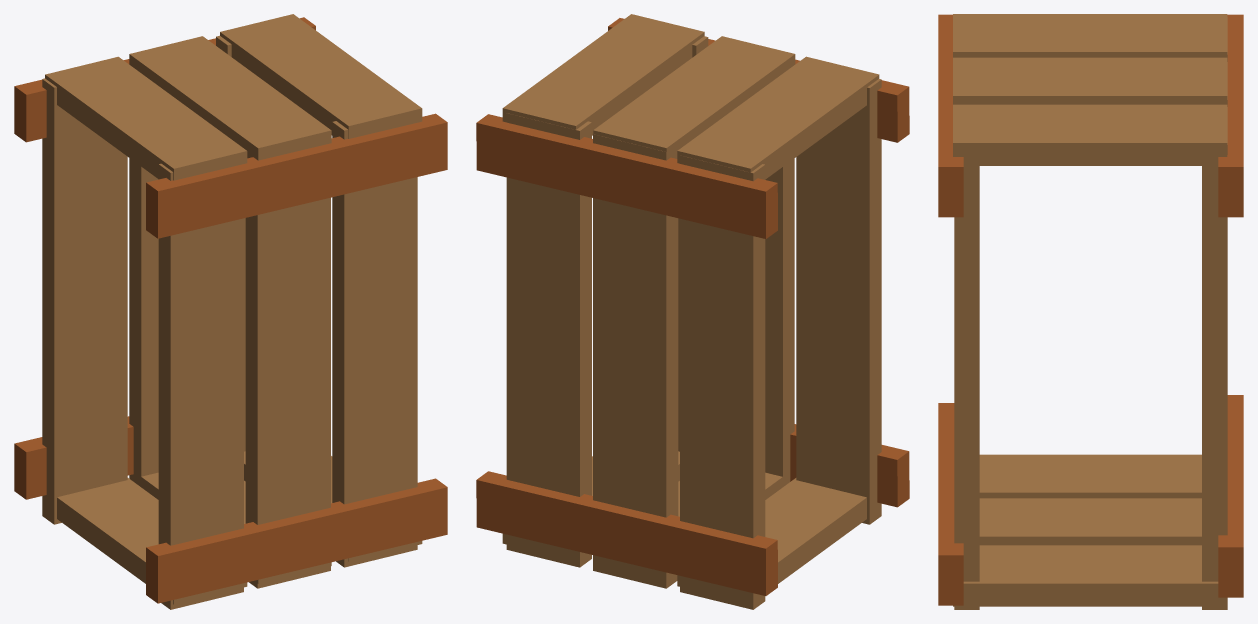
The model's file is Crate_01.fbx.
The picture shows the model from 3 angles, left to right: view 1: azimuth 30°, elevation 25°; view 2: azimuth 150°, elevation 25°; view 3: azimuth 270°, elevation 25°; orthographic projection. The views are drawn at different scales.
Visible parts, largest first — view 1: pCube15, pCube7, pCube5, pCube6, pCube9, pCube8, pCube12, pCube11, pCube10, pCube13, pCube18, pCube17 (+3 smaller); view 2: pCube5, pCube14, pCube15, pCube13, pCube17, pCube16, pCube12, pCube11, pCube10, pCube6, pCube18, pCube9 (+3 smaller); view 3: pCube11, pCube19, pCube10, pCube12, pCube20, pCube7, pCube14, pCube18, pCube17, pCube9, pCube16, pCube8.
Part boxes in pixels (left/top/right/bottom): pCube15: left=42, top=78, right=127, bottom=524; pCube7: left=332, top=121, right=417, bottom=567; pCube5: left=158, top=163, right=243, bottom=609; pCube6: left=245, top=144, right=330, bottom=588; pCube9: left=146, top=478, right=447, bottom=603; pCube8: left=146, top=113, right=447, bottom=238; pCube12: left=45, top=56, right=247, bottom=180; pCube11: left=220, top=14, right=422, bottom=138; pCube10: left=129, top=36, right=331, bottom=160; pCube13: left=129, top=158, right=158, bottom=478; pCube18: left=57, top=478, right=247, bottom=604; pCube17: left=14, top=416, right=133, bottom=499; pCube5: left=796, top=79, right=881, bottom=524; pCube14: left=506, top=113, right=591, bottom=567; pCube15: left=680, top=155, right=765, bottom=609; pCube13: left=593, top=134, right=678, bottom=588; pCube17: left=476, top=471, right=777, bottom=595; pCube16: left=476, top=114, right=777, bottom=238; pCube12: left=677, top=56, right=879, bottom=179; pCube11: left=502, top=14, right=704, bottom=135; pCube10: left=593, top=36, right=795, bottom=159; pCube6: left=765, top=158, right=794, bottom=476; pCube18: left=677, top=478, right=866, bottom=586; pCube9: left=790, top=424, right=909, bottom=507; pCube11: left=953, top=104, right=1227, bottom=165; pCube19: left=953, top=545, right=1227, bottom=606; pCube10: left=953, top=57, right=1227, bottom=104; pCube12: left=953, top=14, right=1227, bottom=57; pCube20: left=979, top=498, right=1201, bottom=545; pCube7: left=954, top=166, right=979, bottom=609; pCube14: left=1202, top=107, right=1227, bottom=609; pCube18: left=979, top=454, right=1201, bottom=498; pCube17: left=1218, top=395, right=1243, bottom=597; pCube9: left=938, top=403, right=963, bottom=605; pCube16: left=1218, top=14, right=1243, bottom=217; pCube8: left=938, top=14, right=963, bottom=217.
Size of the model in its own units: 3.78 by 5.49 by 3.24.
